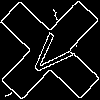V: (25, 25, 81, 81)
